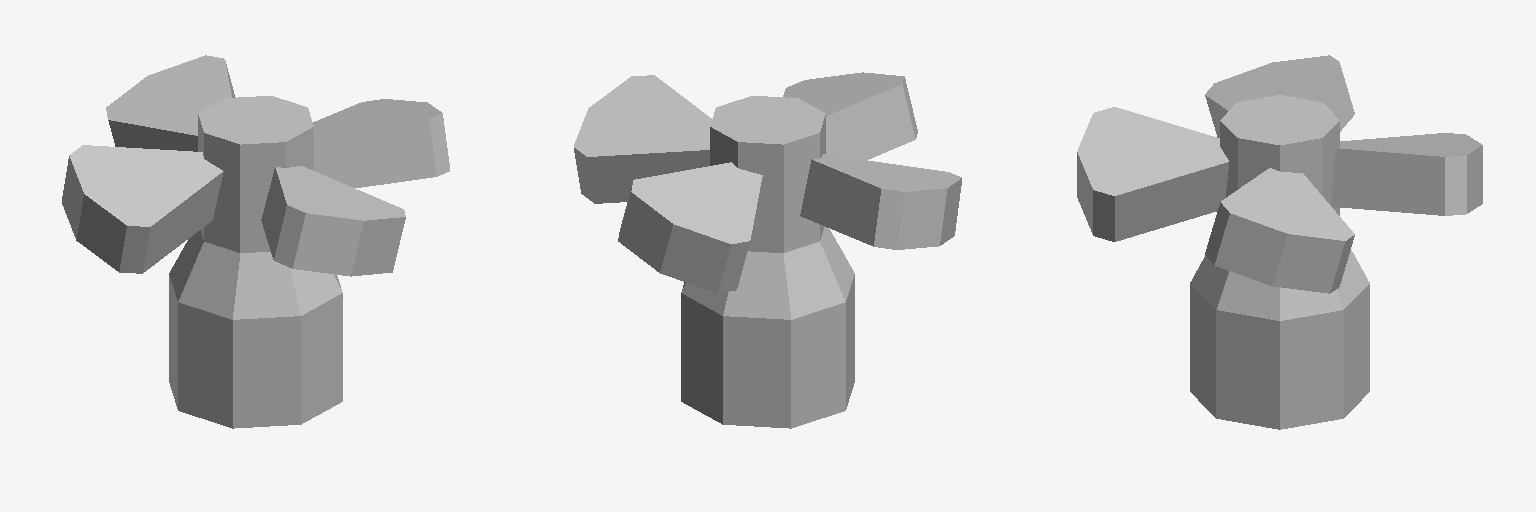
Rendered from fan-simple-four.obj.
3 renders of one model, left to right at view 1: azimuth 30°, elevation 25°; view 2: azimuth 150°, elevation 25°; view 3: azimuth 270°, elevation 25°, orthographic.
Visible parts, largest first — view 1: fan, fan-simple-four; view 2: fan, fan-simple-four; view 3: fan, fan-simple-four.
Part boxes in pixels (x1,y1,x2,y2): fan: (62, 55, 449, 276); fan-simple-four: (169, 96, 342, 428); fan: (574, 72, 961, 293); fan-simple-four: (681, 96, 854, 428); fan: (1077, 55, 1482, 293); fan-simple-four: (1190, 95, 1369, 429).
Size of the model in its own units: 0.6765 by 0.5 by 0.6765.